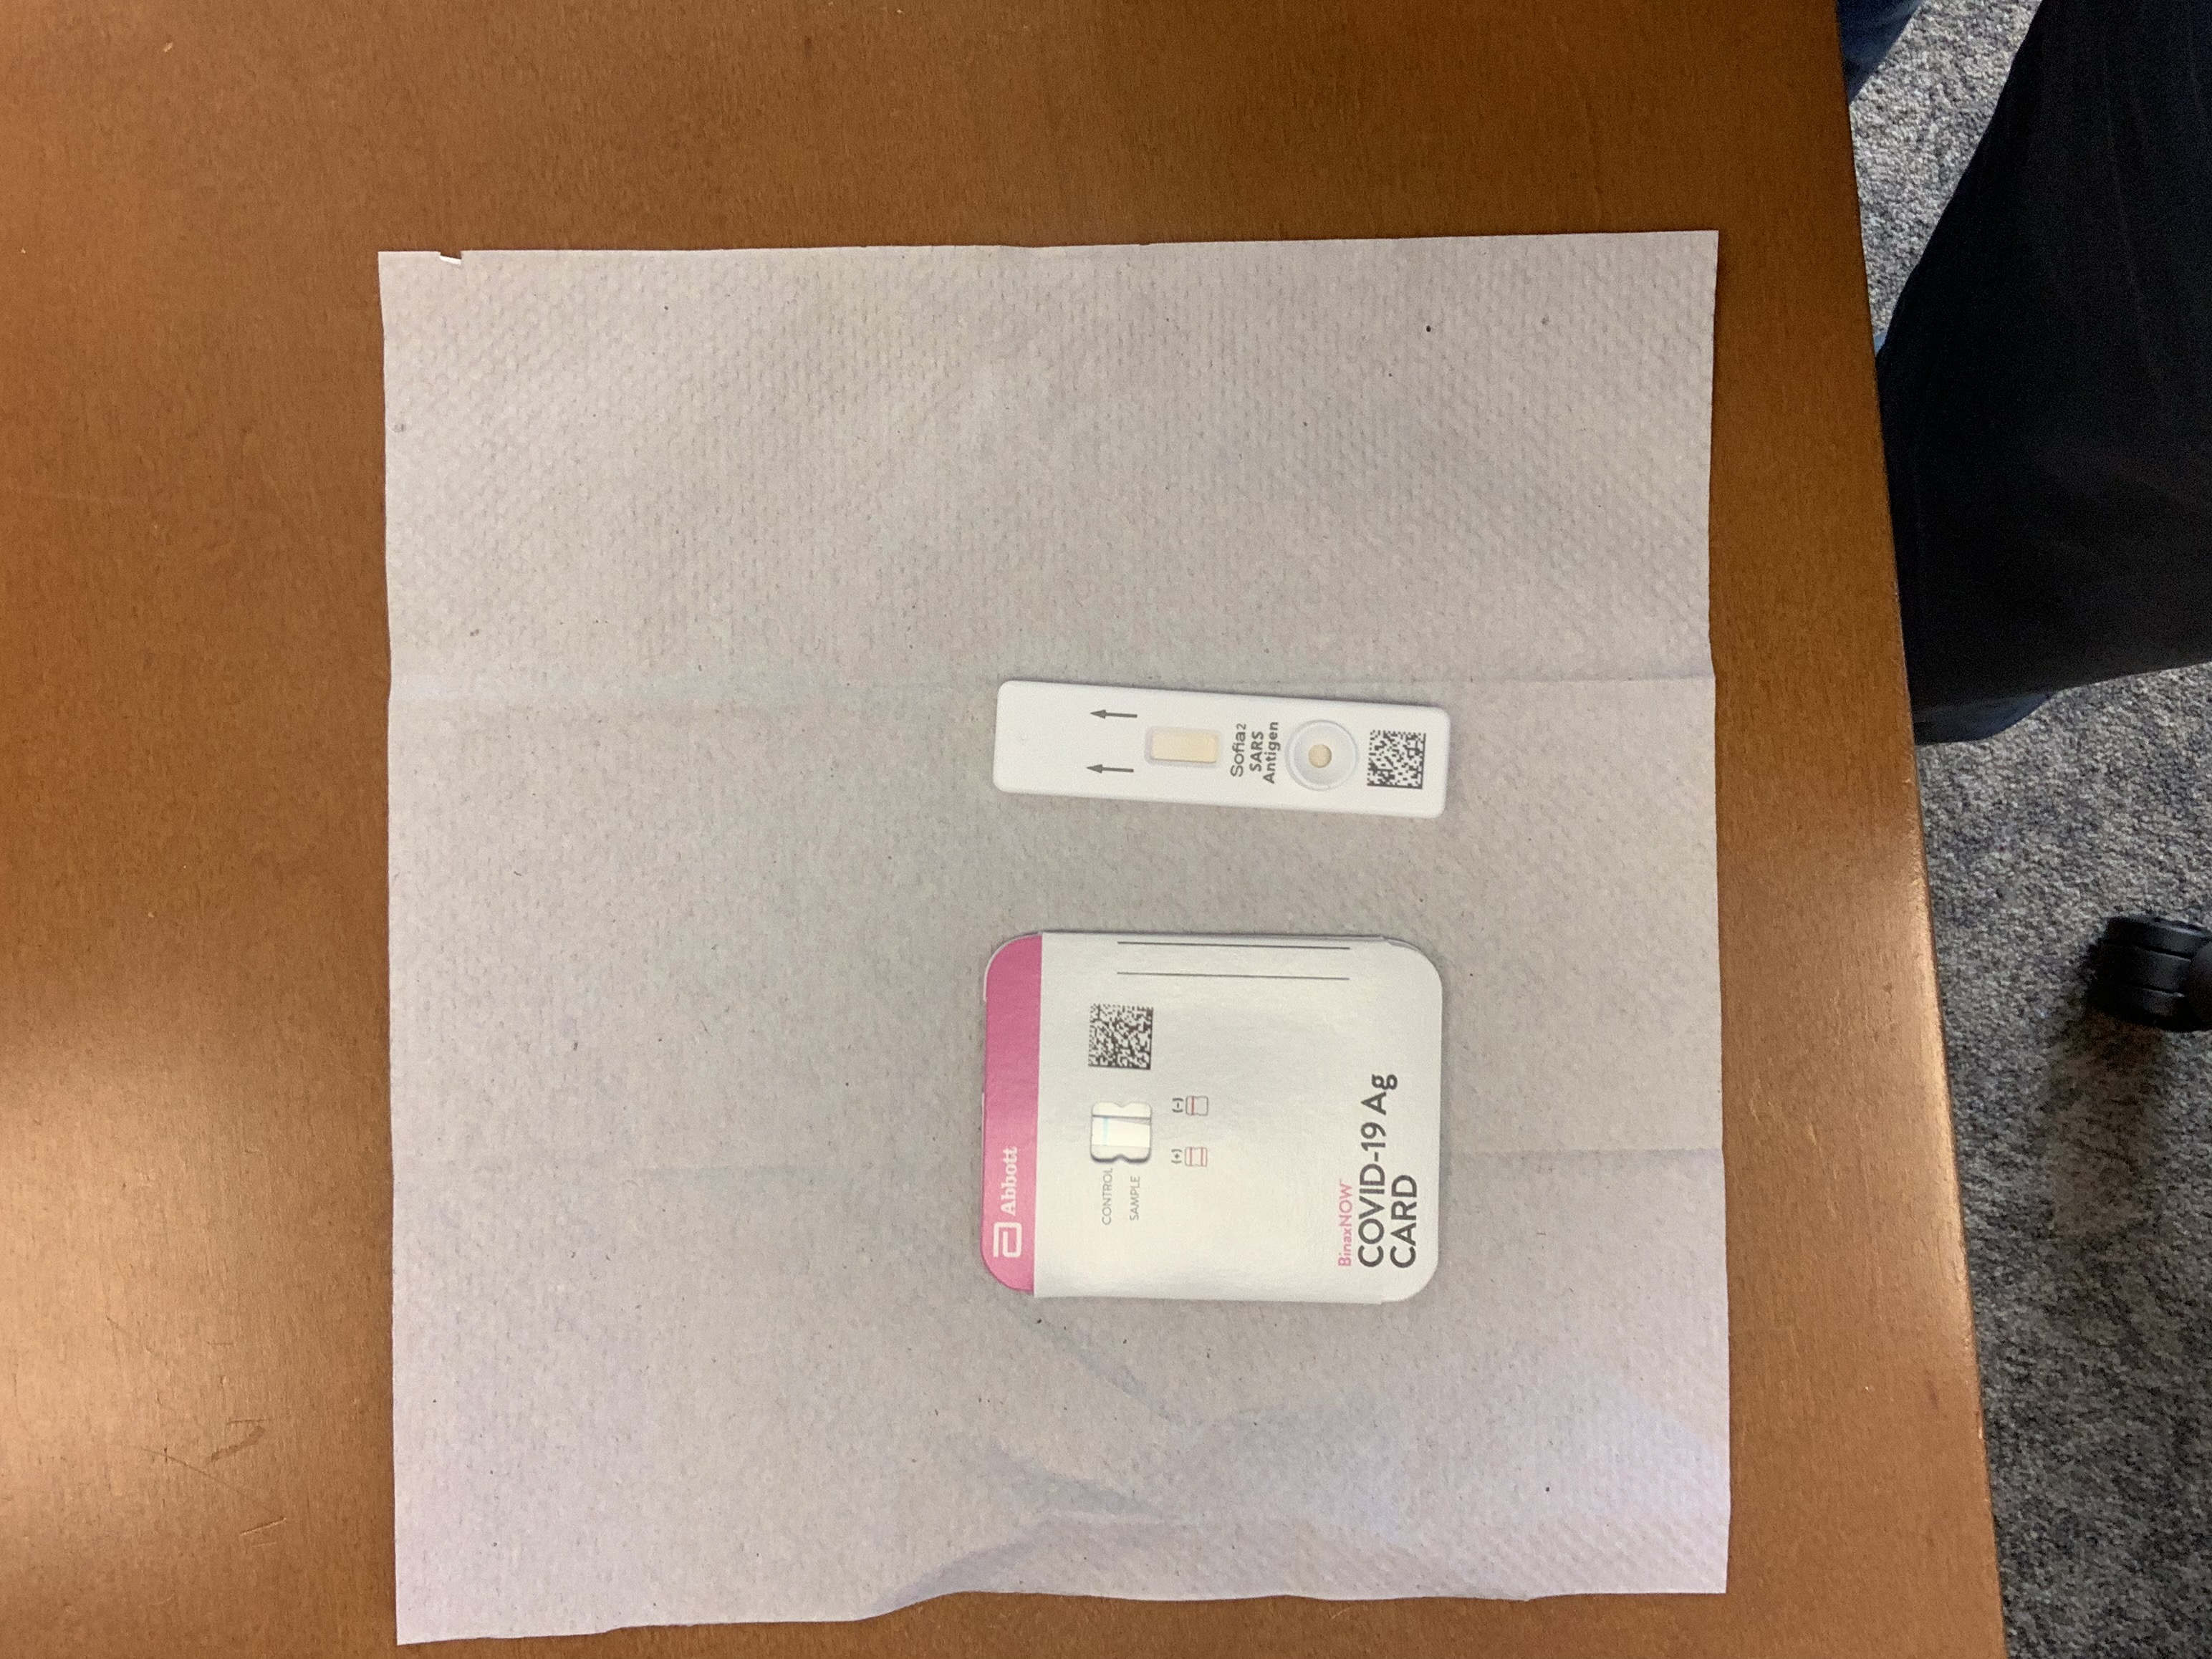binax: (972, 925, 1451, 1309)
quidel: (984, 673, 1460, 829)
